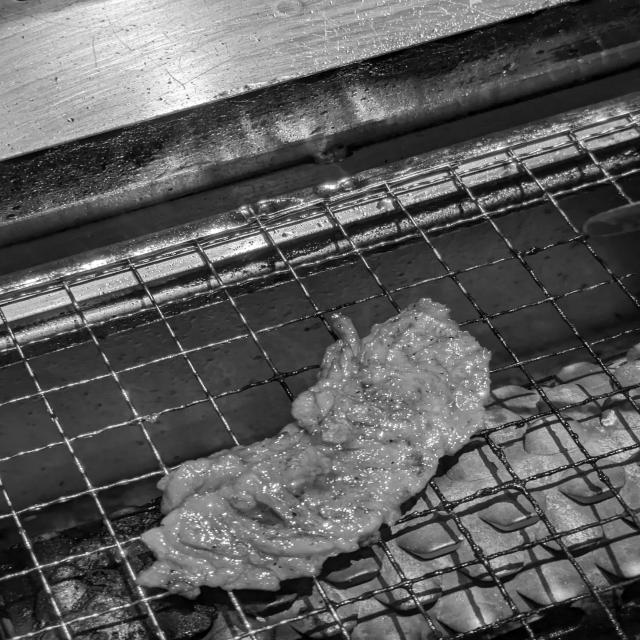OK undercooked beef,: (118, 287, 516, 606)
